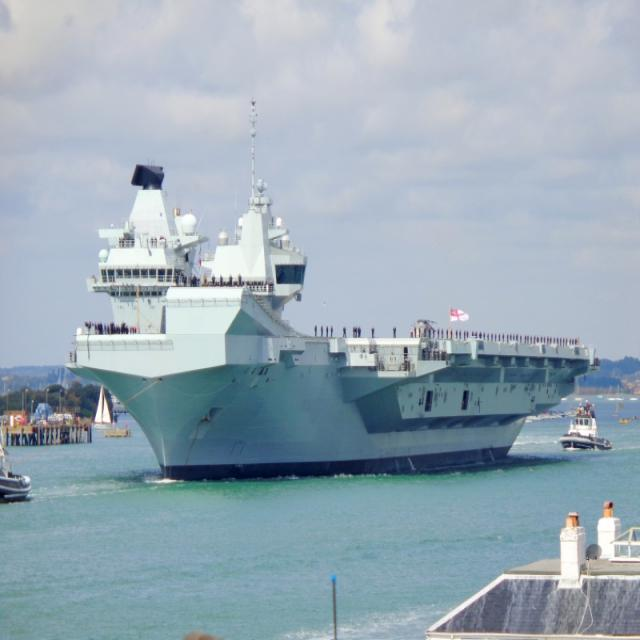Portanaves: (69, 86, 595, 486)
